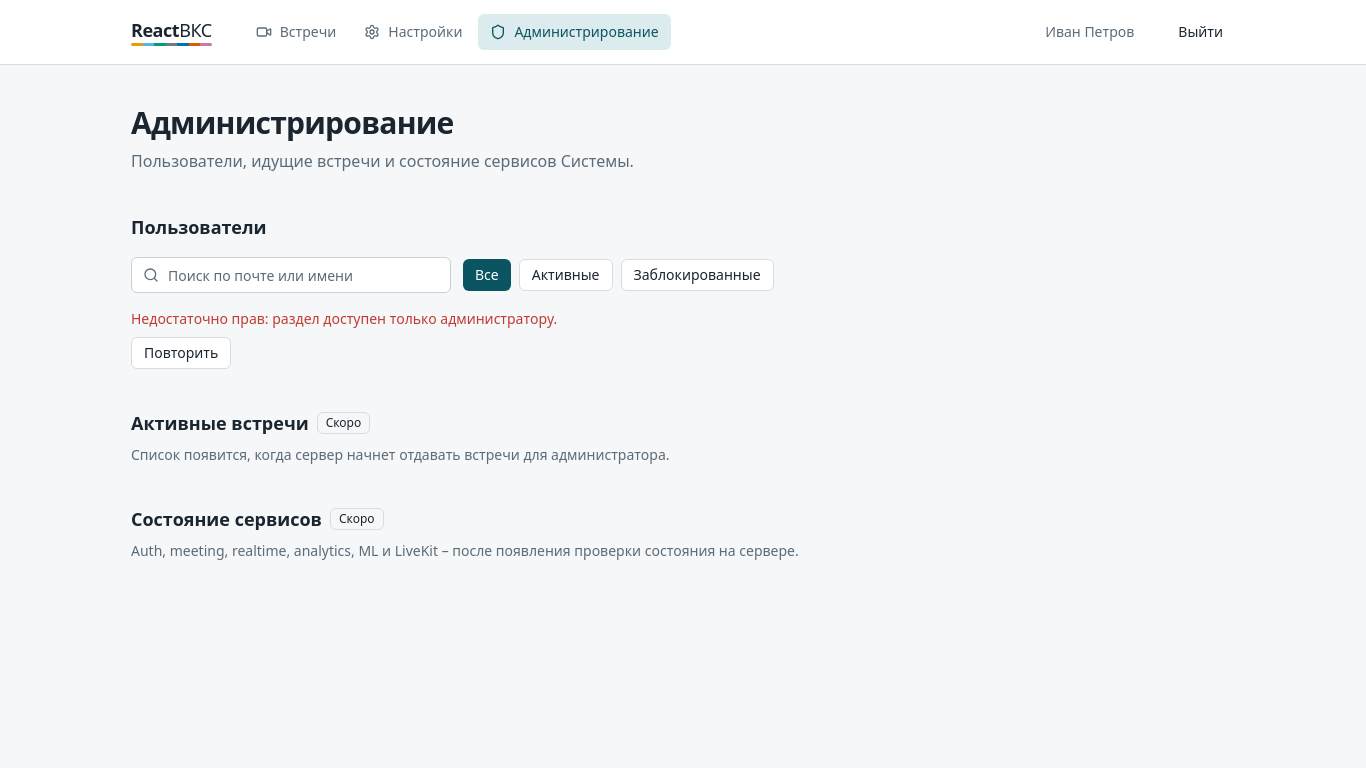
админка: пользователи (режим http) › 403 при загрузке списка: сообщение и «Повторить»
The width and height of the screenshot is (1366, 768).
Check: the message shows "только администратору", box [131,309,557,328]
What coordinates should you click on to do the following:
click the button "Повторить"
I would click on:
 (181, 353)
Its box is [131,337,231,369].
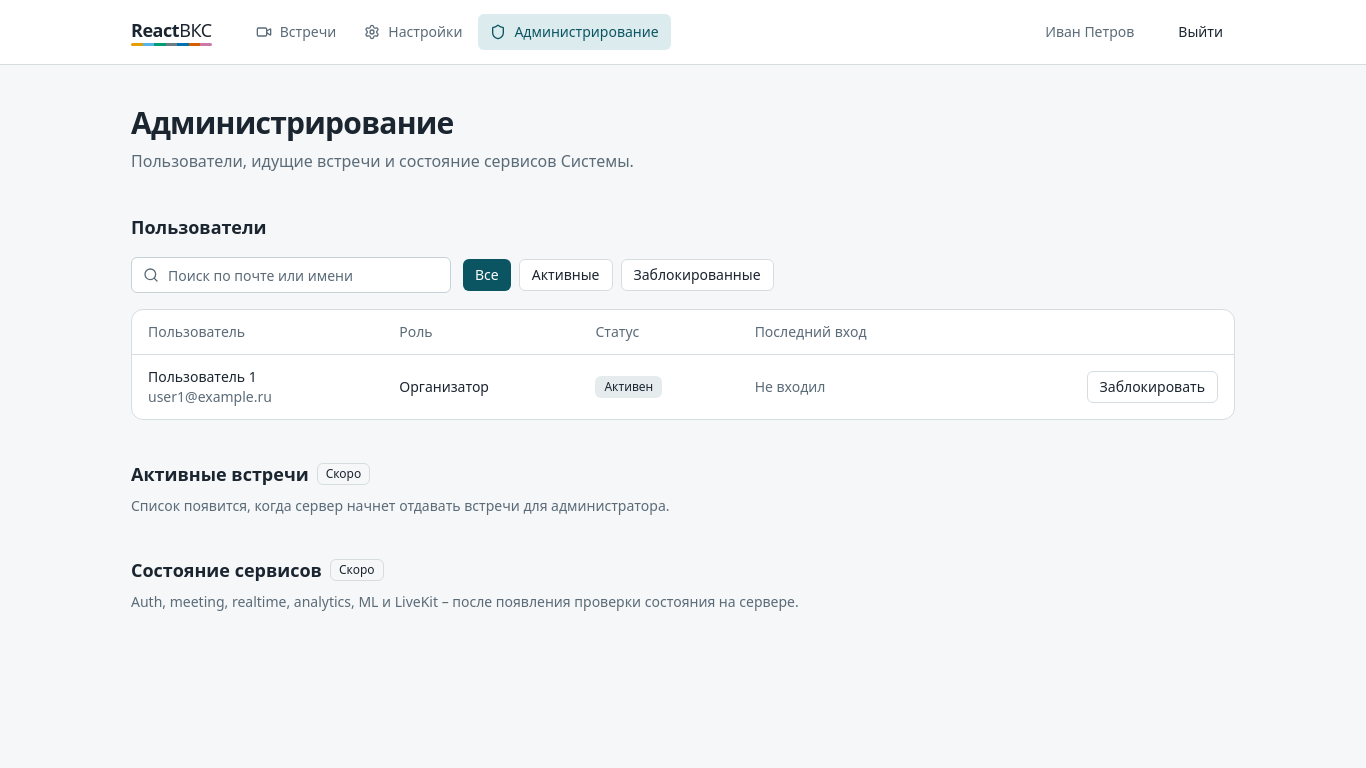
Check: the text "Пользователь 1" is shown, box [148,367,257,386]
